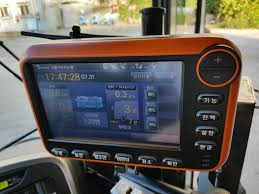terminal: (18, 38, 242, 174)
